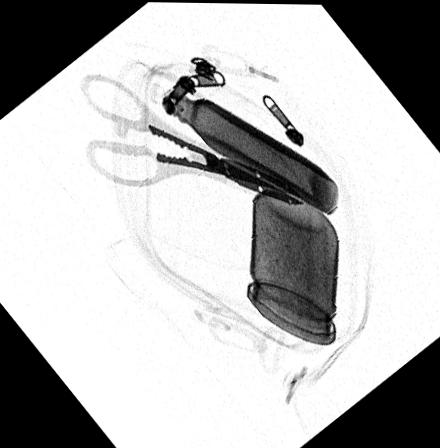Scissors: (75, 73, 301, 206)
